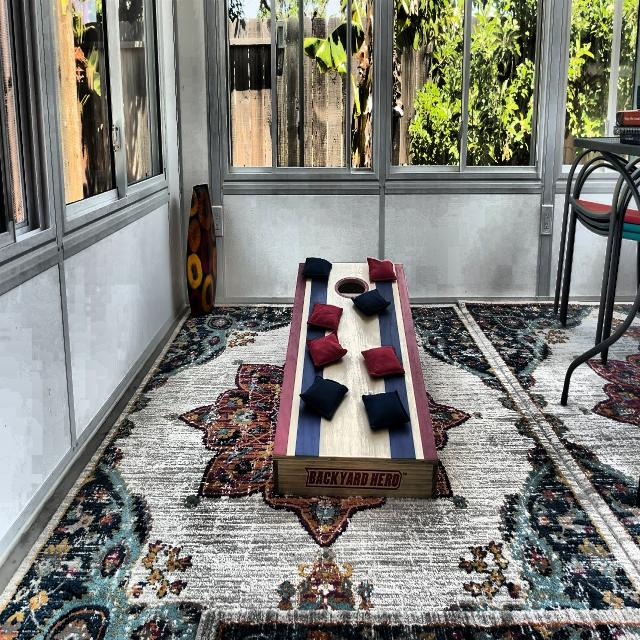blue-bean-bag: (300, 375, 348, 419), (362, 390, 410, 430), (351, 288, 390, 312), (302, 257, 332, 278)
board: (294, 263, 412, 455)
hole: (334, 275, 369, 299)
red-bean-bag: (360, 346, 405, 378), (307, 331, 347, 366), (307, 301, 343, 331), (367, 257, 396, 281)
